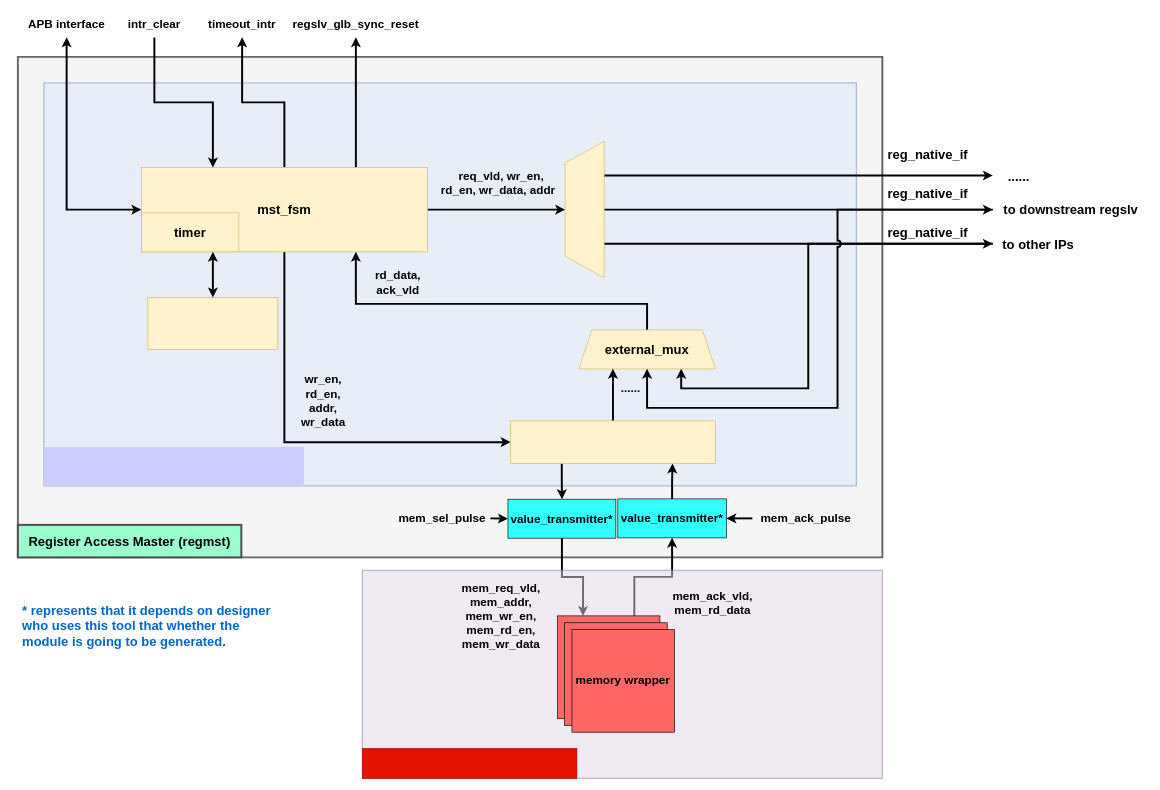
Image size: 1160x790. Some labels were removed from this diagram. The box of each missing label's shape, as (x1, y1, x2, y2) in pixels:
dispatch_decoder: (147, 297, 278, 349)
register native clock domain (50MHz): (44, 447, 304, 486)
snapshot_mem*: (510, 420, 715, 463)
target module clock domain: (362, 748, 577, 778)
